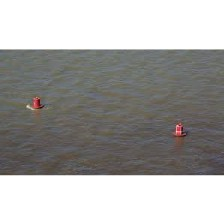buoy: (172, 124, 187, 136), (31, 96, 44, 109)
